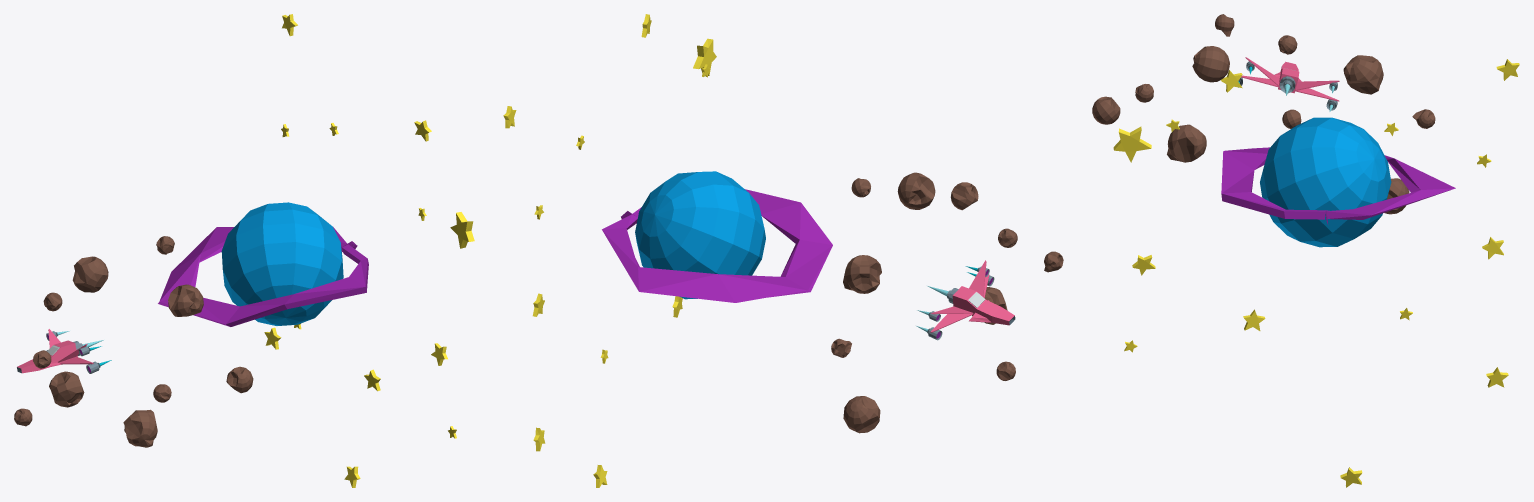
Rendered from spaceship.gltf.
3 renders of one model, left to right at view 1: azimuth 30°, elevation 25°; view 2: azimuth 150°, elevation 25°; view 3: azimuth 270°, elevation 25°, orthographic. The views are drawn at different scales.
Visible parts, largest first — view 1: group455752954, group677000251, group1256879764, group1971460864, group1501158731, group455134113, group924795463, group1257498605, group1156463205; view 2: group455752954, group677000251, group1256879764, group1501158731, group924795463, group455134113, group1257498605; view 3: group455752954, group677000251, group1256879764, group1501158731, group1971460864, group924795463, group1156463205, group1257498605.
Part boxes in pixels (box(x1,y1,x2,y2)): group455752954: box(221, 202, 343, 325); group677000251: box(158, 227, 368, 326); group1256879764: box(17, 329, 111, 373); group1971460864: box(123, 409, 157, 447); group1501158731: box(72, 256, 108, 292); group455134113: box(49, 371, 84, 407); group924795463: box(168, 284, 203, 316); group1257498605: box(226, 366, 253, 393); group1156463205: box(450, 212, 474, 248); group455752954: box(635, 171, 765, 299); group677000251: box(602, 189, 832, 302); group1256879764: box(916, 260, 1015, 340); group1501158731: box(843, 255, 881, 293); group924795463: box(897, 172, 935, 209); group455134113: box(843, 396, 880, 433); group1257498605: box(950, 182, 978, 210); group455752954: box(1260, 117, 1391, 247); group677000251: box(1221, 147, 1455, 224); group1256879764: box(1238, 57, 1339, 111); group1501158731: box(1343, 55, 1383, 94); group1971460864: box(1167, 124, 1206, 162); group924795463: box(1192, 46, 1229, 82); group1156463205: box(1113, 126, 1151, 162); group1257498605: box(1092, 96, 1120, 124).
Bounding box in the file's own units: 8.23 × 8.23 × 7.33.
